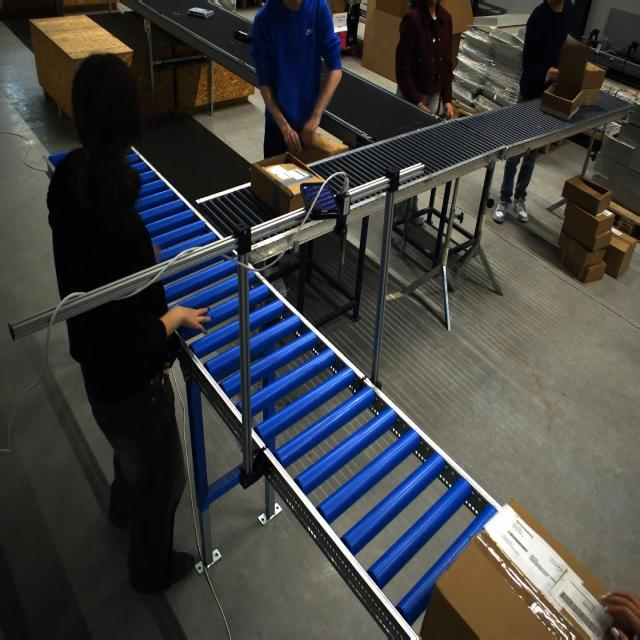box: (251, 149, 340, 216), (538, 36, 603, 121)
product: (187, 7, 214, 18), (233, 30, 252, 44)
